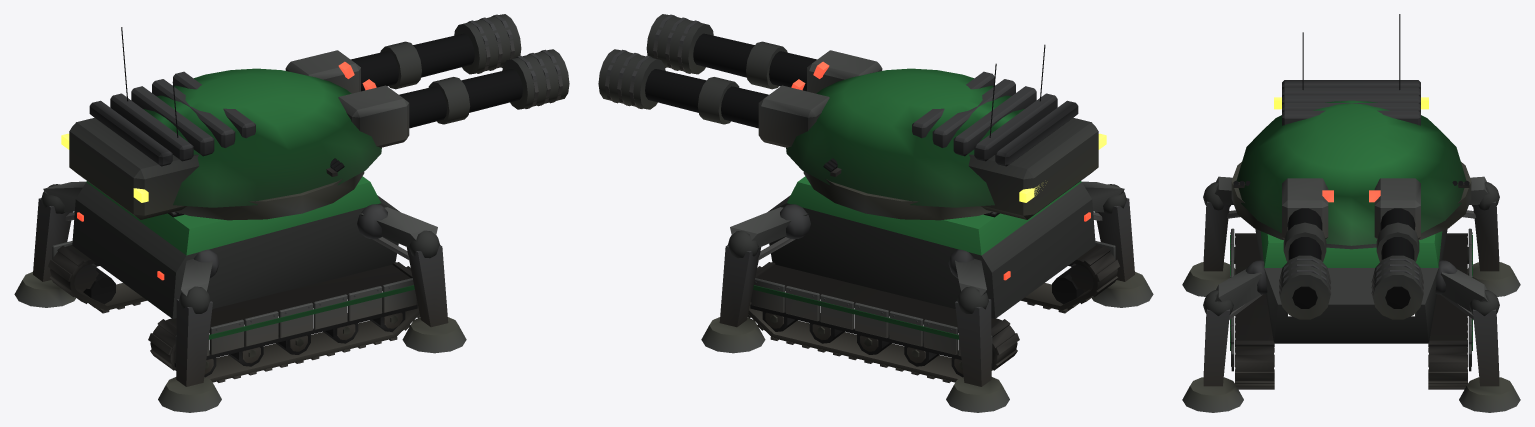
Rendered from u_colossus.glb.
The picture shows the model from 3 angles, left to right: view 1: azimuth 30°, elevation 25°; view 2: azimuth 150°, elevation 25°; view 3: azimuth 270°, elevation 25°; orthographic projection. The views are drawn at different scales.
Visible parts, largest first — view 1: Colossus_turret, Colossus_Walls, Colossus_Foundation, Colossus_Details, Colossus_Frame; view 2: Colossus_turret, Colossus_Walls, Colossus_Foundation, Colossus_Details, Colossus_Frame; view 3: Colossus_turret, Colossus_Walls, Colossus_Foundation, Colossus_Details.
Part boxes in pixels (<box>): Colossus_turret: <box>61,14,569,220</box>; Colossus_Walls: <box>14,176,466,412</box>; Colossus_Foundation: <box>50,245,419,382</box>; Colossus_Details: <box>48,212,420,382</box>; Colossus_Frame: <box>74,263,402,374</box>; Colossus_turret: <box>598,14,1106,220</box>; Colossus_Walls: <box>701,176,1153,412</box>; Colossus_Foundation: <box>748,245,1117,382</box>; Colossus_Details: <box>747,212,1119,382</box>; Colossus_Frame: <box>765,263,1093,374</box>; Colossus_turret: <box>1231,14,1471,319</box>; Colossus_Walls: <box>1182,176,1520,412</box>; Colossus_Foundation: <box>1235,235,1467,380</box>; Colossus_Details: <box>1227,210,1475,389</box>.
Bounding box in the file's own units: 2.55 × 1.63 × 1.75.
